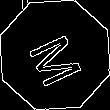M_NE: (22, 23, 88, 87)
